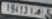h: (34, 8, 41, 16)
